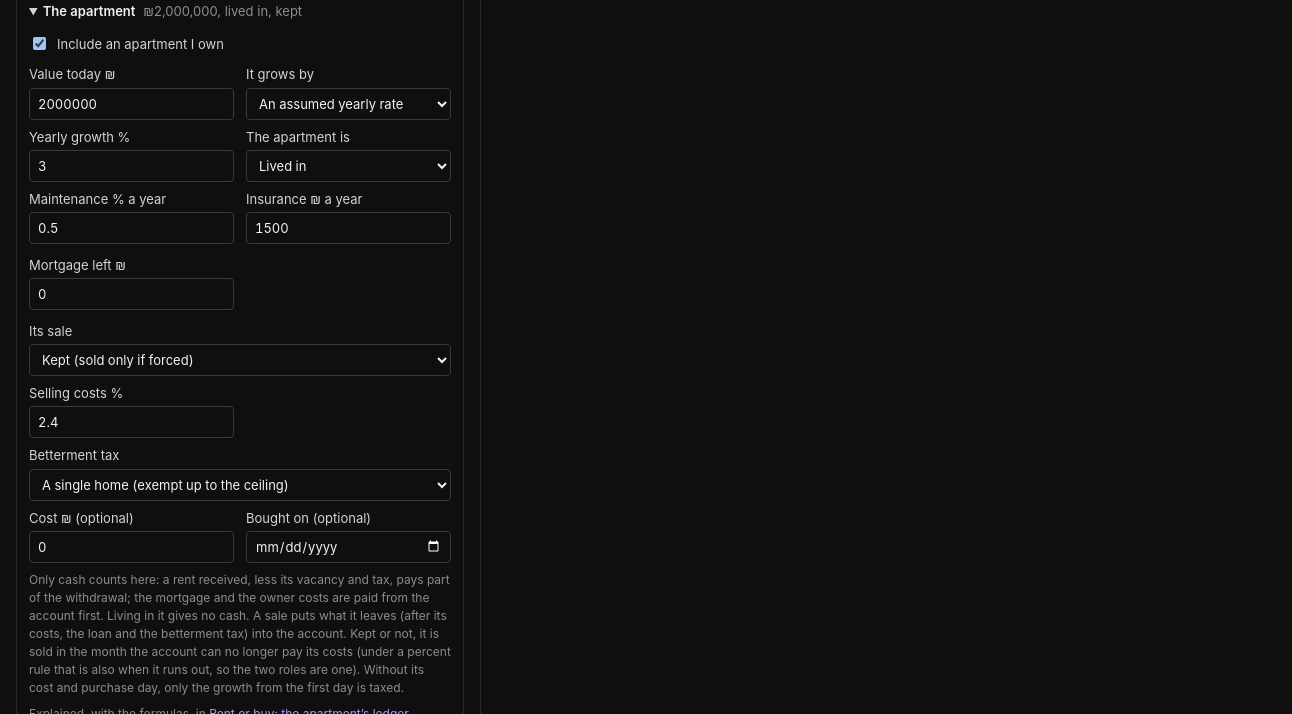
Test: PlannerWithdraw › sells the apartment on a date and says when
(page scrolled)
Select "Sold on a date" in the dropdown labelled "Its sale" at (240,360), box [29,344,451,376]
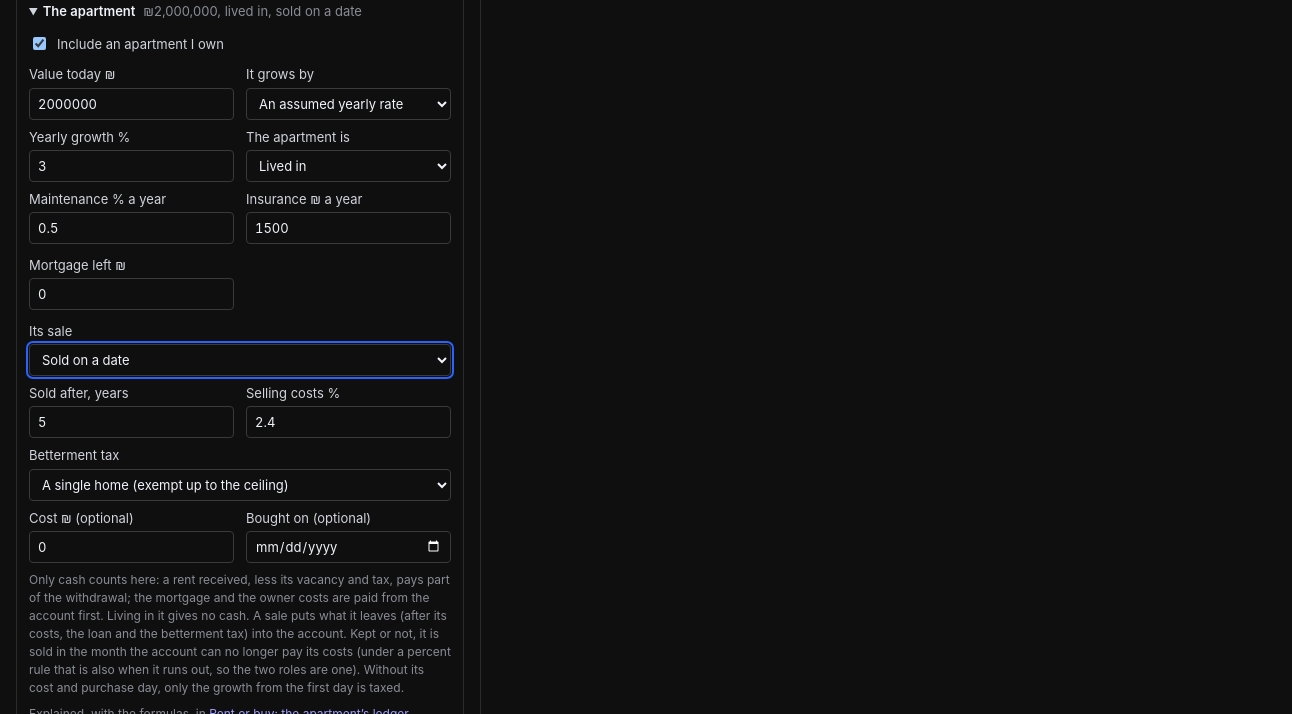
Replace the text in the number field labelled "Sold after, years" with "3" at (132,422), box [29,406,234,438]
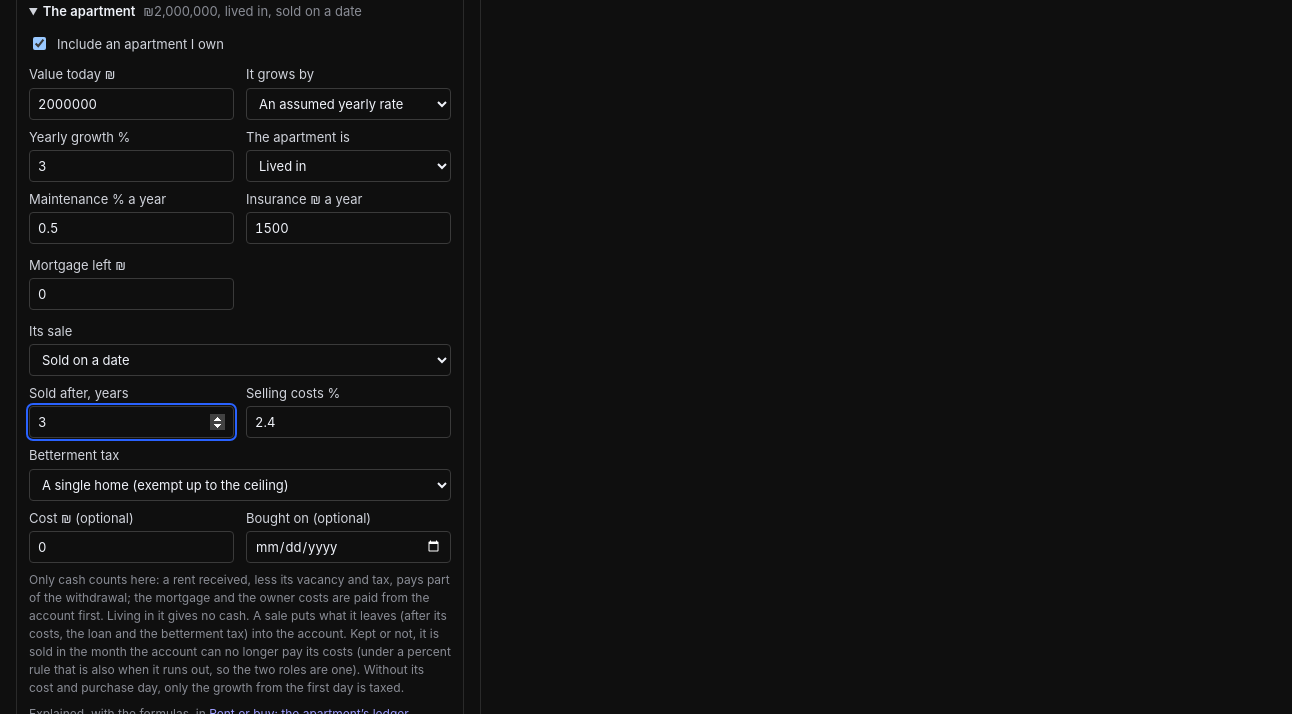
Press Tab
(page scrolled)
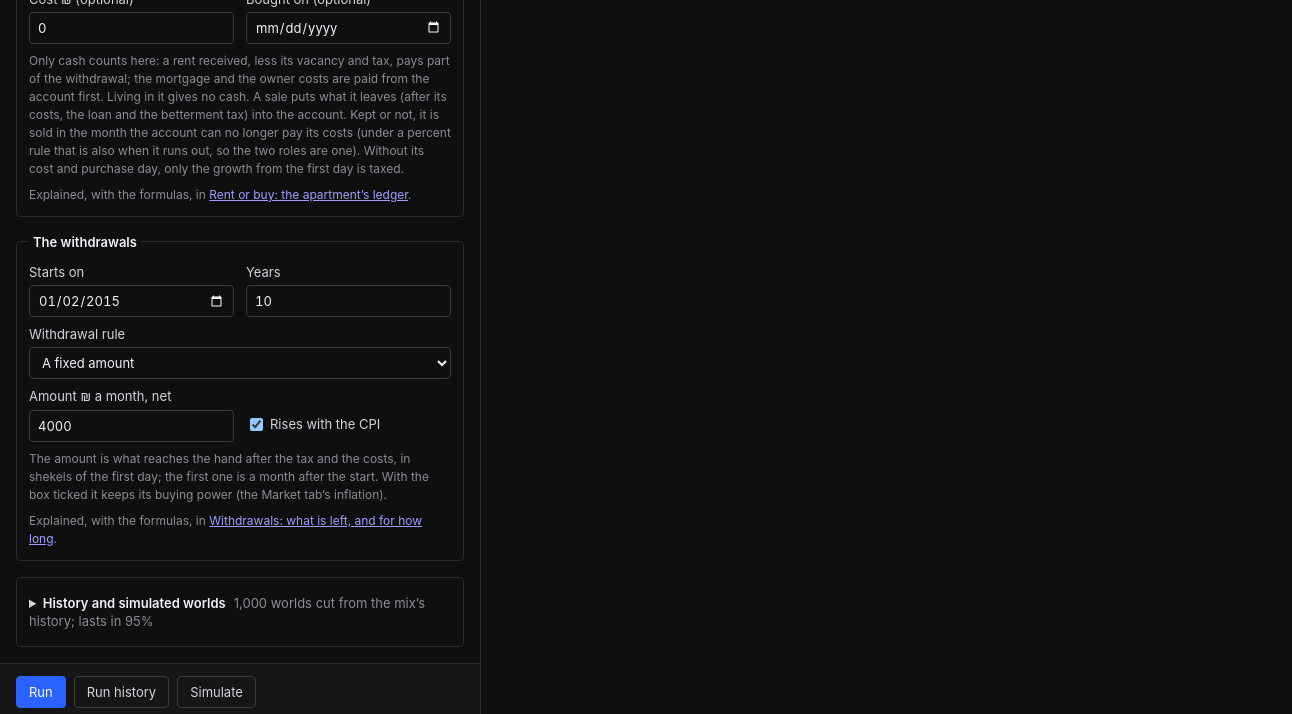
Click the button "Run" at (41,692), box [16,676,66,708]
(page scrolled)
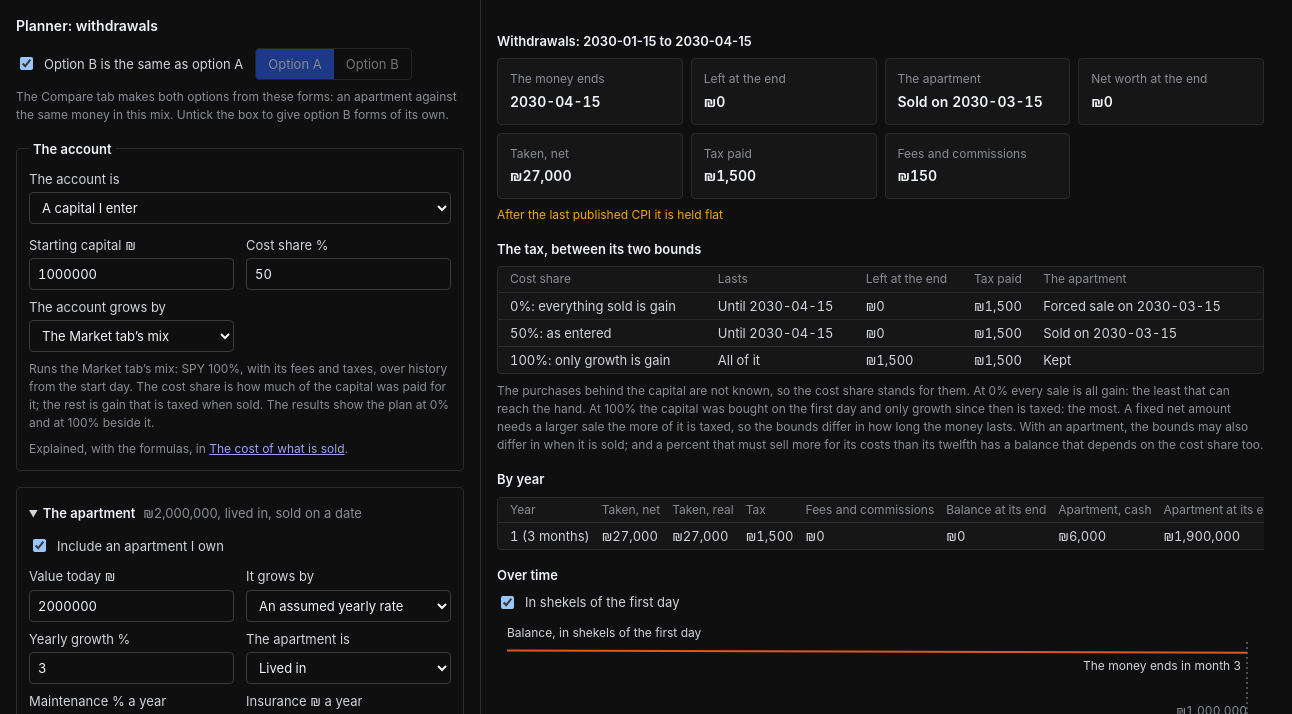
expect the heading "Withdrawals: 2030-01-15 to 2030-04-15" is shown: met, box [497,33,752,49]
